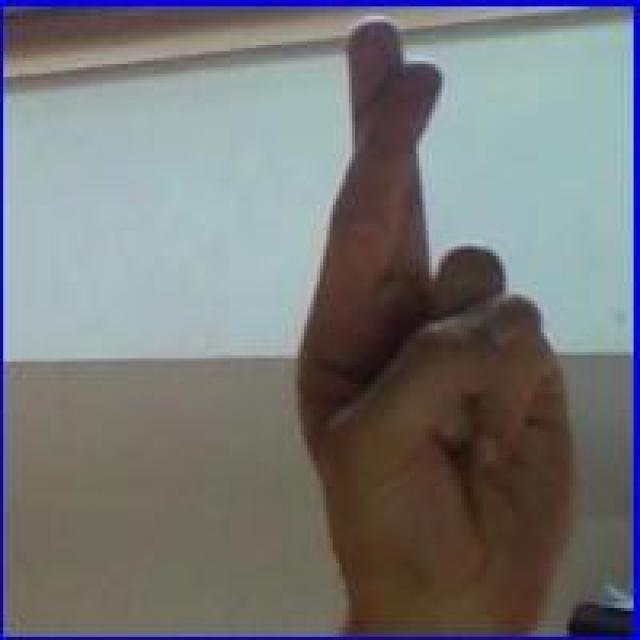R: (275, 19, 579, 640)
